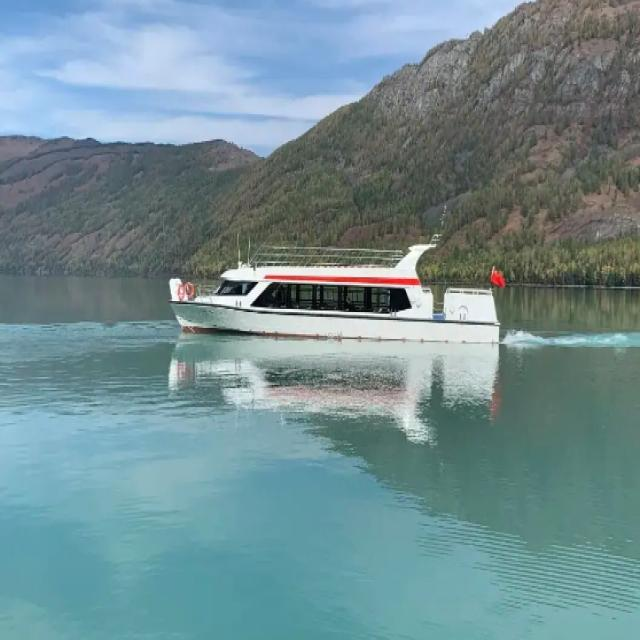houseboat: (160, 225, 500, 353)
